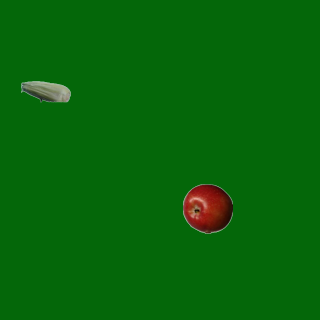Apple Braeburn: (182, 183, 232, 233)
Corn Husk: (20, 66, 70, 116)
